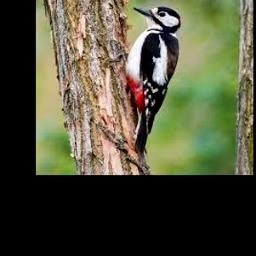Woodpecker: (125, 7, 181, 156)
